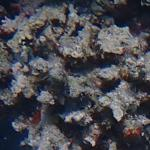dead: (4, 7, 142, 147)
